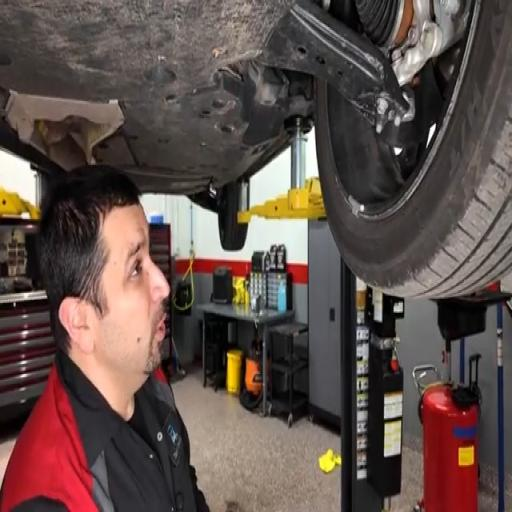tire: (316, 0, 511, 298), (218, 183, 247, 251)
wheel: (316, 0, 511, 298)
